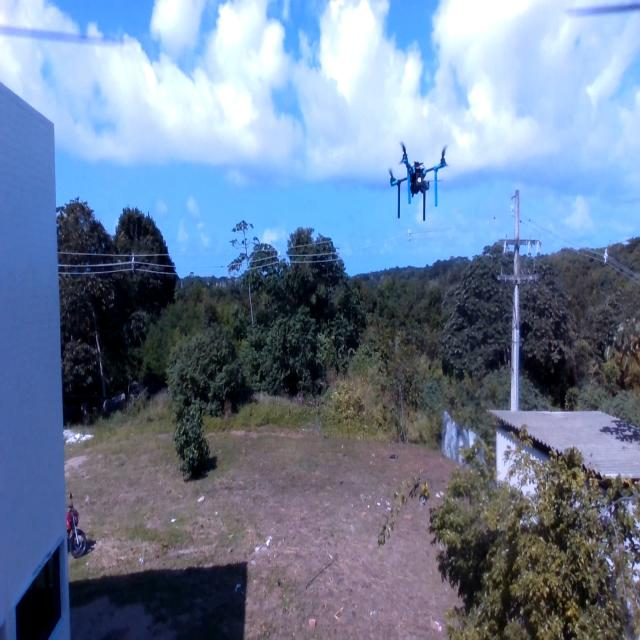-uav-: (385, 129, 456, 244)
